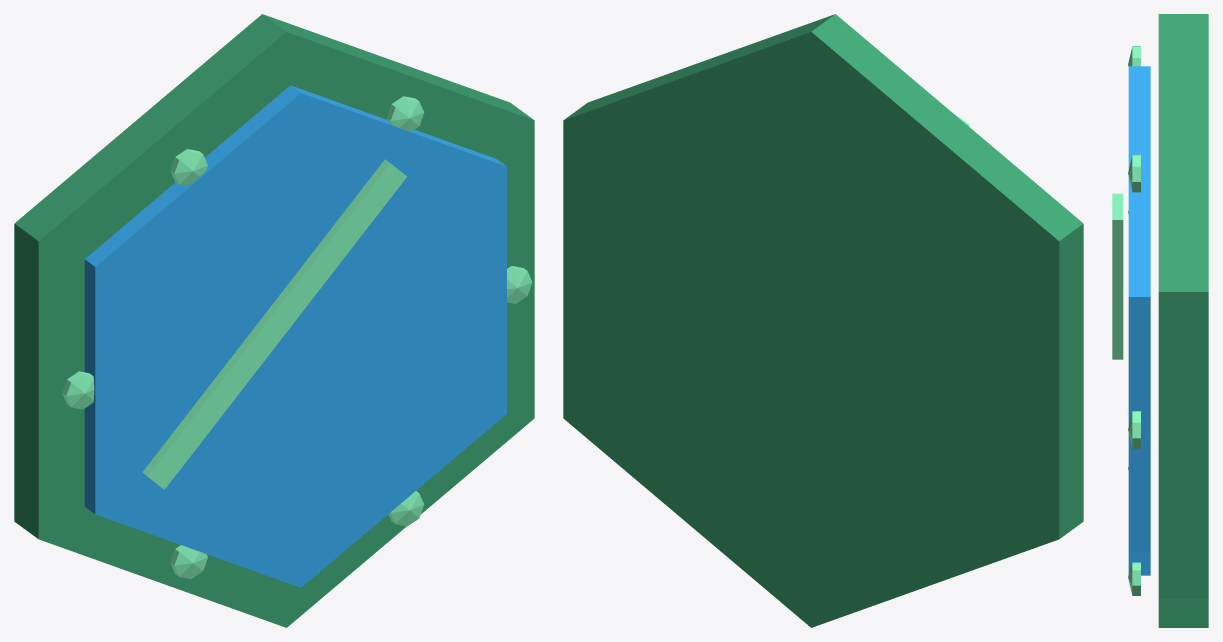
The model's file is sixfold_jade.obj.
The picture shows the model from 3 angles, left to right: view 1: azimuth 30°, elevation 25°; view 2: azimuth 150°, elevation 25°; view 3: azimuth 270°, elevation 25°; orthographic projection. The views are drawn at different scales.
Parts seen in each view (by area): view 1: sixfold_inner, sixfold_surface, sixfold_surface_edge, sixfold_glint, sixfold_inner_edge, sixfold_glint_edge, sixfold_glint_2, sixfold_glint_3, sixfold_glint_1, sixfold_glint_4, sixfold_glint_0, sixfold_glint_5; view 2: sixfold_surface, sixfold_surface_edge; view 3: sixfold_surface_edge, sixfold_inner_edge, sixfold_glint_edge, sixfold_glint_1, sixfold_glint_0, sixfold_glint_5, sixfold_glint_2.
Boxes of the visible parts, x1,y1,x2,y2 form: sixfold_inner: (95, 93, 506, 587); sixfold_surface: (38, 32, 534, 627); sixfold_surface_edge: (14, 14, 533, 538); sixfold_glint: (148, 163, 406, 489); sixfold_inner_edge: (84, 85, 505, 513); sixfold_glint_edge: (142, 159, 390, 488); sixfold_glint_2: (170, 149, 207, 186); sixfold_glint_3: (62, 371, 94, 409); sixfold_glint_1: (386, 96, 424, 131); sixfold_glint_4: (170, 545, 207, 578); sixfold_glint_0: (507, 266, 532, 303); sixfold_glint_5: (388, 491, 424, 526); sixfold_surface: (563, 32, 1059, 627); sixfold_surface_edge: (564, 14, 1083, 538); sixfold_surface_edge: (1158, 14, 1208, 627); sixfold_inner_edge: (1128, 66, 1150, 575); sixfold_glint_edge: (1112, 193, 1123, 359); sixfold_glint_1: (1128, 154, 1140, 192); sixfold_glint_0: (1128, 411, 1140, 448); sixfold_glint_5: (1128, 562, 1140, 595); sixfold_glint_2: (1128, 46, 1140, 66).
Size of the model in its own units: 0.94 by 1.08 by 0.154.
